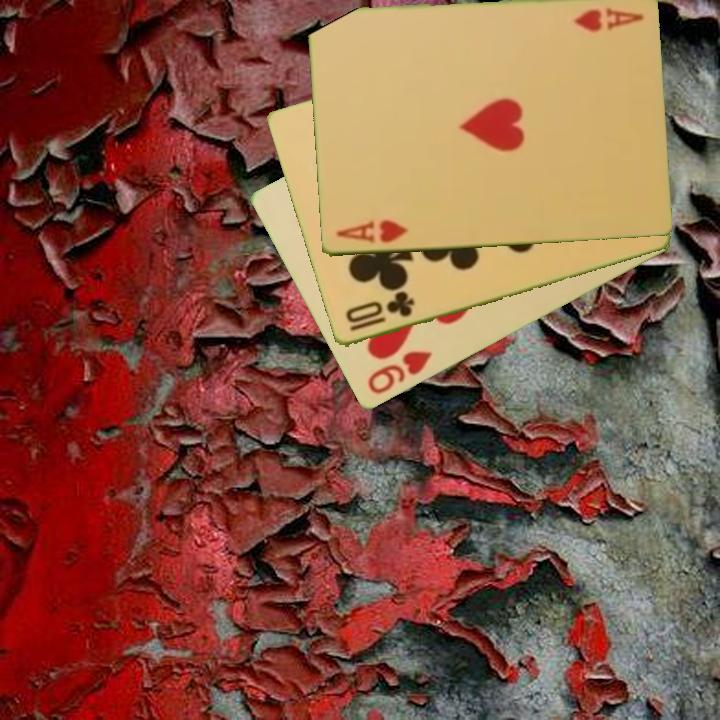10c: (342, 289, 418, 335)
9h: (364, 348, 435, 398)
Ah: (332, 216, 410, 247), (570, 4, 646, 31)
